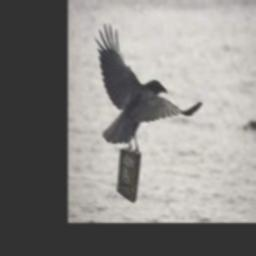Crow: (95, 22, 203, 151)
